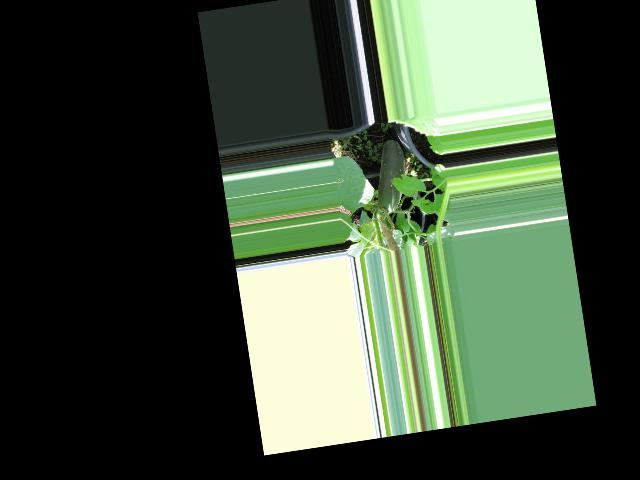cucumber: (368, 138, 411, 215)
